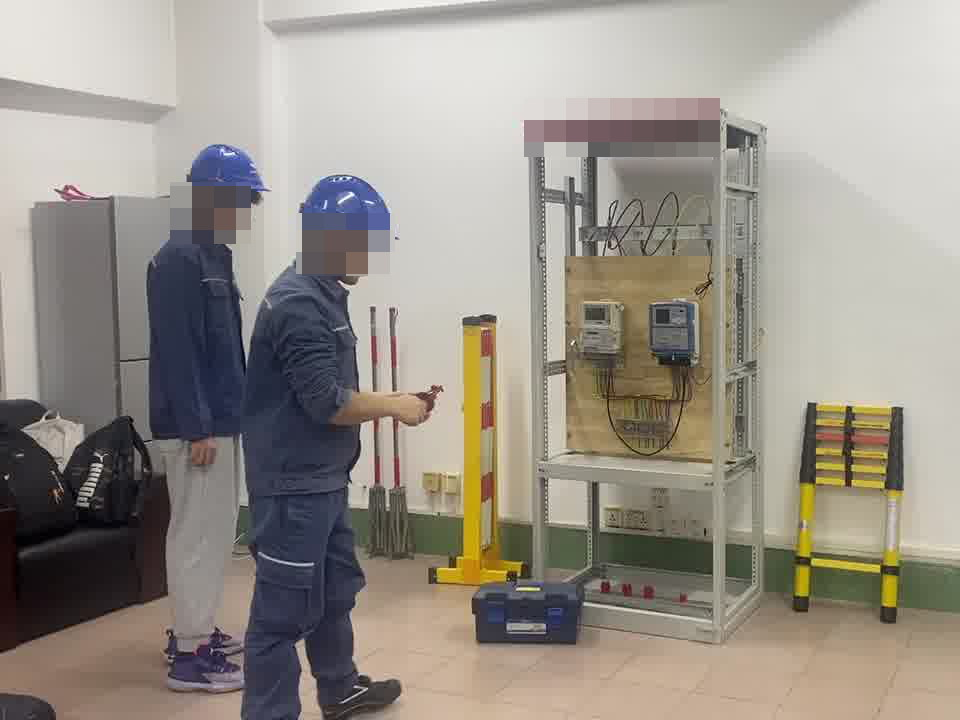downcloth: (157, 442, 241, 634)
downsuit: (238, 501, 366, 720)
halt: (294, 172, 398, 281), (183, 143, 270, 241)
hand: (397, 390, 431, 428), (186, 435, 218, 470)
inear: (313, 222, 357, 268), (189, 181, 224, 219)
person: (237, 172, 411, 720), (143, 134, 270, 694)
upsuit: (246, 257, 363, 492), (145, 230, 245, 443)
wrongtop: (322, 382, 428, 431)
